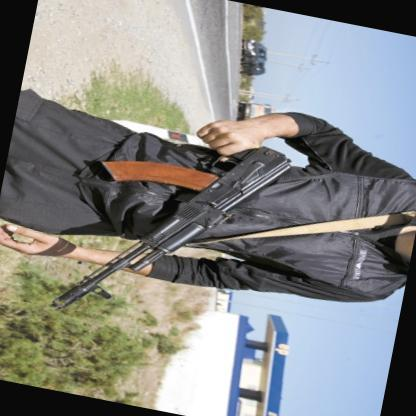rifle: (48, 97, 298, 348)
